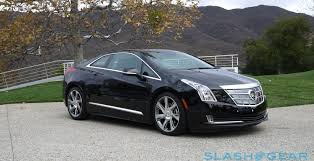car: (62, 46, 271, 138)
